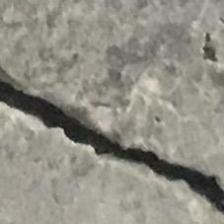Crack: (0, 61, 224, 224)
